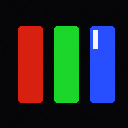4 line_v: (93, 30, 97, 48)
